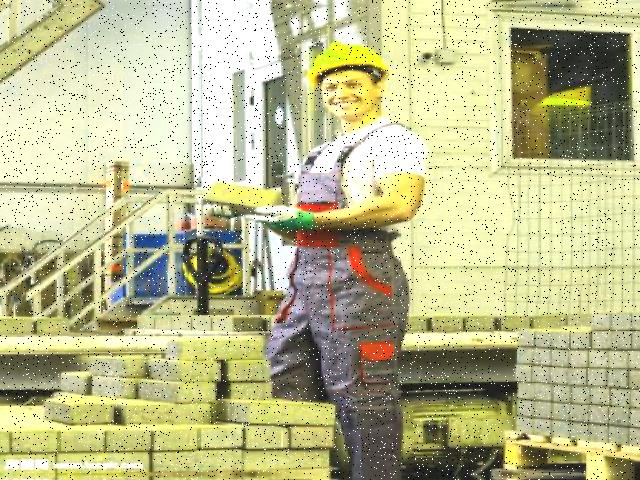Helmet: (303, 36, 397, 88)
